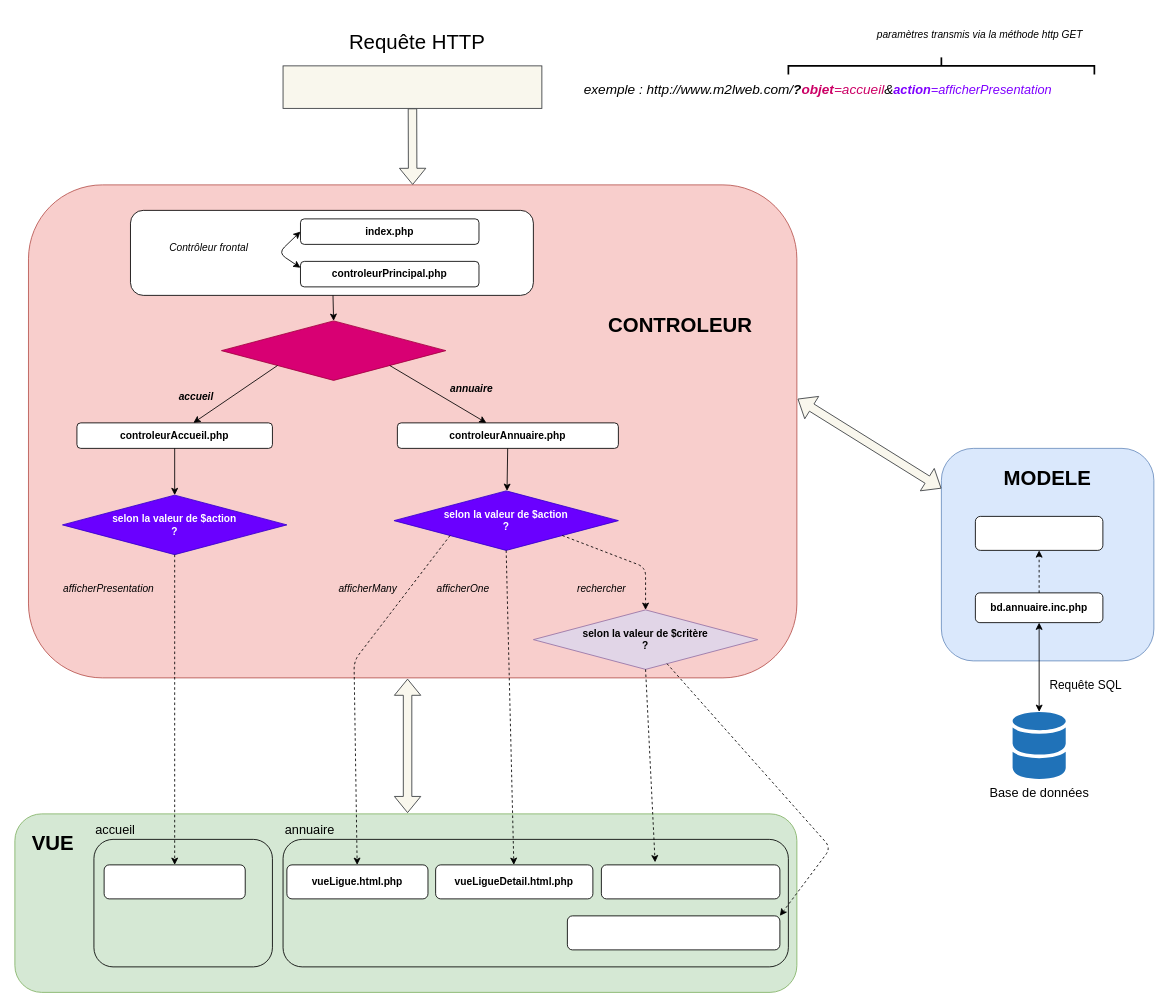
Some shapes in this 1169 by 1007 pixel diagram are drawn without their labels. The centre of each missing label's shape, as x and y in pixels:
"bd.inc.php" belongs at pixel 1039 533.
"selon la valeur de $objet ?" belongs at pixel 333 350.
"URL" belongs at pixel 412 86.
"vueAccueil.html.php" belongs at pixel 174 881.
"vueLigueRecherche.html.php" belongs at pixel 690 881.
"vueLigueRechercheResult.html.php" belongs at pixel 673 932.
